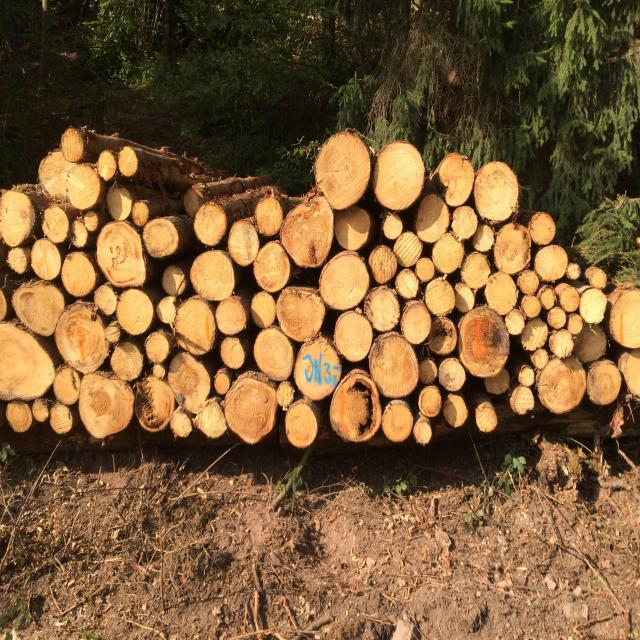wood-log: (318, 136, 375, 212), (0, 322, 53, 401), (222, 374, 277, 445), (56, 301, 110, 373), (279, 197, 335, 266), (460, 307, 512, 378), (81, 368, 135, 436), (376, 142, 428, 211), (367, 331, 418, 398), (97, 220, 147, 286), (40, 158, 100, 212), (292, 333, 340, 400), (321, 252, 371, 311), (473, 162, 521, 221), (11, 279, 63, 333), (538, 357, 586, 414), (276, 287, 324, 343), (330, 381, 372, 443), (173, 297, 217, 354), (170, 349, 213, 406), (190, 250, 236, 302), (254, 326, 296, 381), (254, 241, 294, 294), (334, 312, 374, 364), (439, 153, 477, 207), (0, 190, 36, 246), (496, 223, 533, 274), (414, 192, 450, 243), (610, 288, 640, 348), (336, 207, 374, 252), (118, 290, 156, 335), (61, 252, 98, 298), (226, 217, 260, 265), (365, 288, 402, 332), (285, 399, 318, 448), (586, 360, 620, 406), (194, 202, 230, 245), (485, 272, 519, 316), (433, 232, 465, 276), (142, 217, 178, 256), (112, 339, 145, 381), (402, 301, 433, 345), (30, 238, 62, 280), (214, 296, 249, 334), (576, 324, 610, 363), (423, 278, 456, 318), (382, 401, 413, 443), (369, 243, 399, 284), (537, 243, 569, 280), (197, 399, 226, 439), (256, 196, 285, 236), (424, 325, 458, 359), (462, 253, 492, 291), (53, 366, 80, 405), (393, 231, 423, 266), (580, 288, 609, 324), (520, 316, 550, 350), (439, 356, 467, 392), (619, 350, 640, 396), (44, 206, 70, 243), (252, 290, 278, 327), (452, 204, 479, 239), (528, 213, 556, 246), (145, 332, 171, 365), (63, 130, 89, 163), (444, 394, 469, 428), (220, 337, 246, 369), (94, 285, 119, 317), (419, 384, 442, 418), (396, 268, 421, 299), (50, 405, 75, 435), (6, 401, 30, 432), (511, 385, 536, 414), (486, 367, 511, 396), (472, 224, 496, 254), (97, 150, 118, 182), (171, 406, 192, 437), (477, 402, 498, 433), (550, 331, 574, 358), (559, 283, 580, 313), (414, 256, 436, 284), (7, 245, 27, 275), (518, 268, 540, 295), (383, 214, 404, 242), (418, 357, 438, 386), (507, 309, 526, 337), (120, 149, 138, 178), (277, 381, 295, 410), (215, 368, 232, 396), (588, 266, 608, 289), (522, 293, 542, 316), (132, 200, 150, 225), (548, 306, 568, 328), (415, 420, 432, 444), (33, 400, 50, 423), (540, 285, 555, 308), (567, 315, 583, 333), (0, 287, 8, 321), (567, 264, 581, 282), (543, 300, 556, 316)
